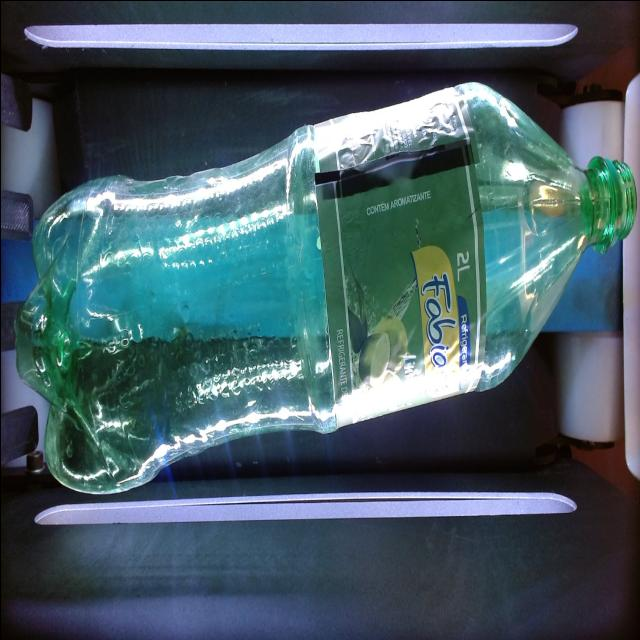bottom: (13, 159, 144, 531)
no_cap: (565, 134, 640, 286)
